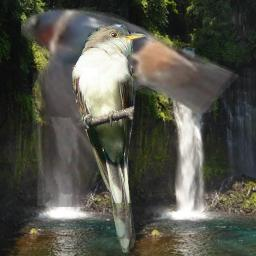Cuckoo: (72, 23, 147, 254)
Swallow: (21, 0, 239, 207)
